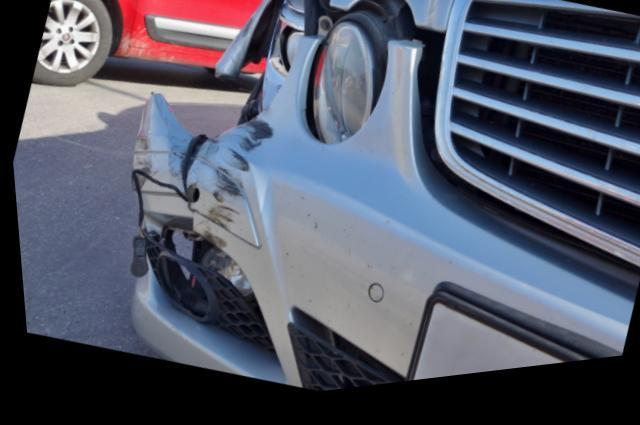scratch: (200, 123, 270, 251)
